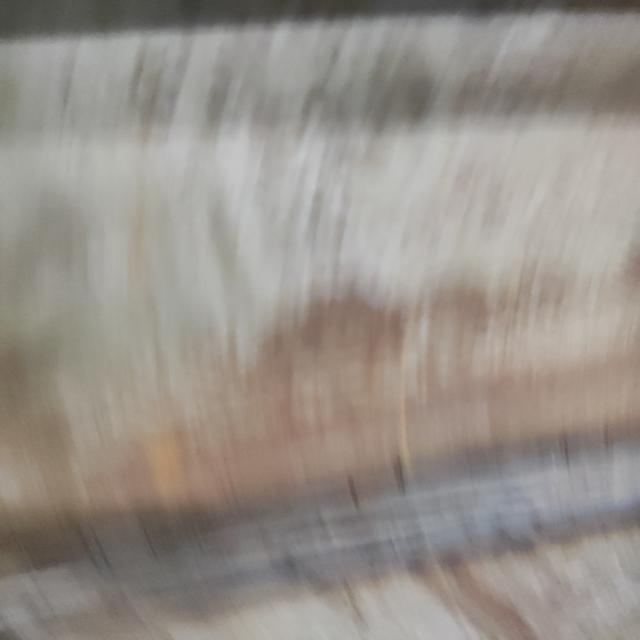seam: (0, 408, 640, 640)
